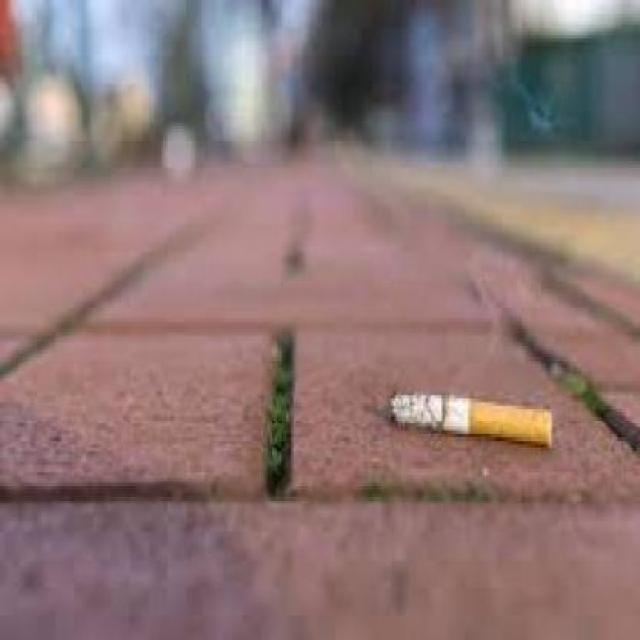cigarette: (374, 396, 568, 462)
